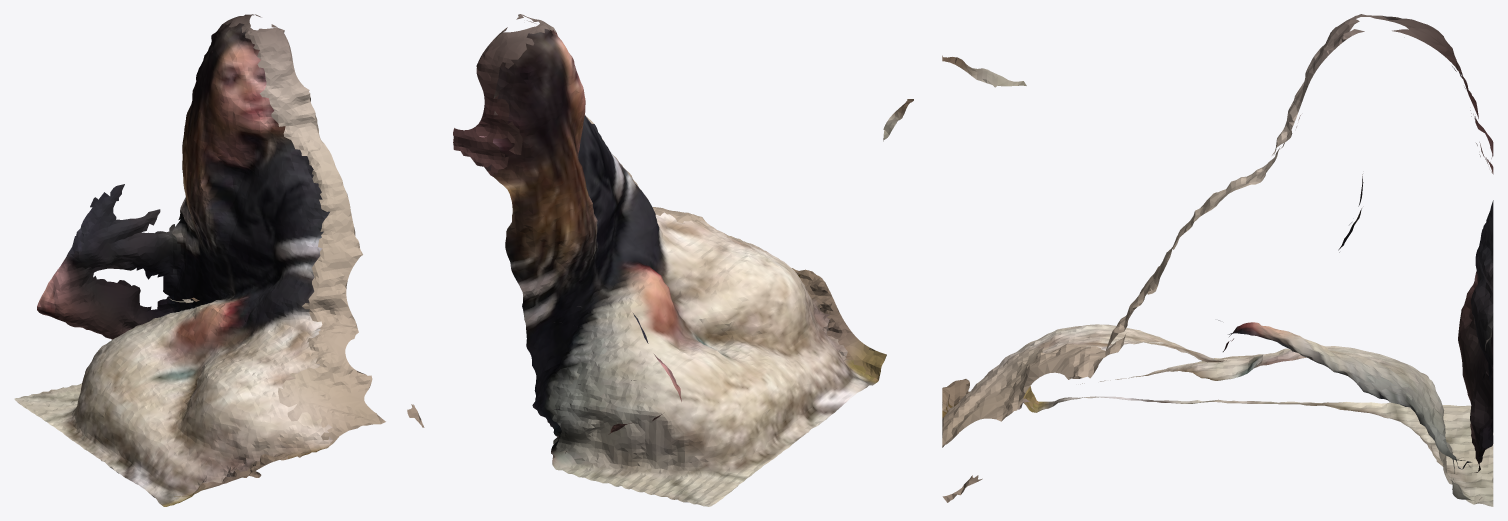
3 renders of one model, left to right at view 1: azimuth 30°, elevation 25°; view 2: azimuth 150°, elevation 25°; view 3: azimuth 270°, elevation 25°, orthographic. The views are drawn at different scales.
Size of the model in its own units: 0.5367 by 0.7922 by 0.7376.
1 material, 1 textured.
